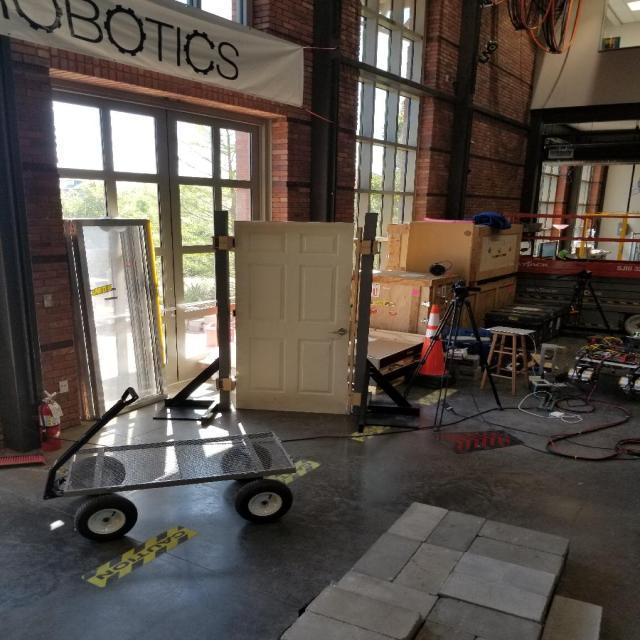door: (231, 218, 355, 418), (327, 326, 350, 336)
